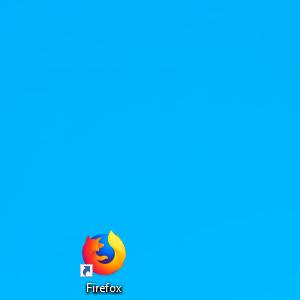firefox: (80, 229, 127, 277)
